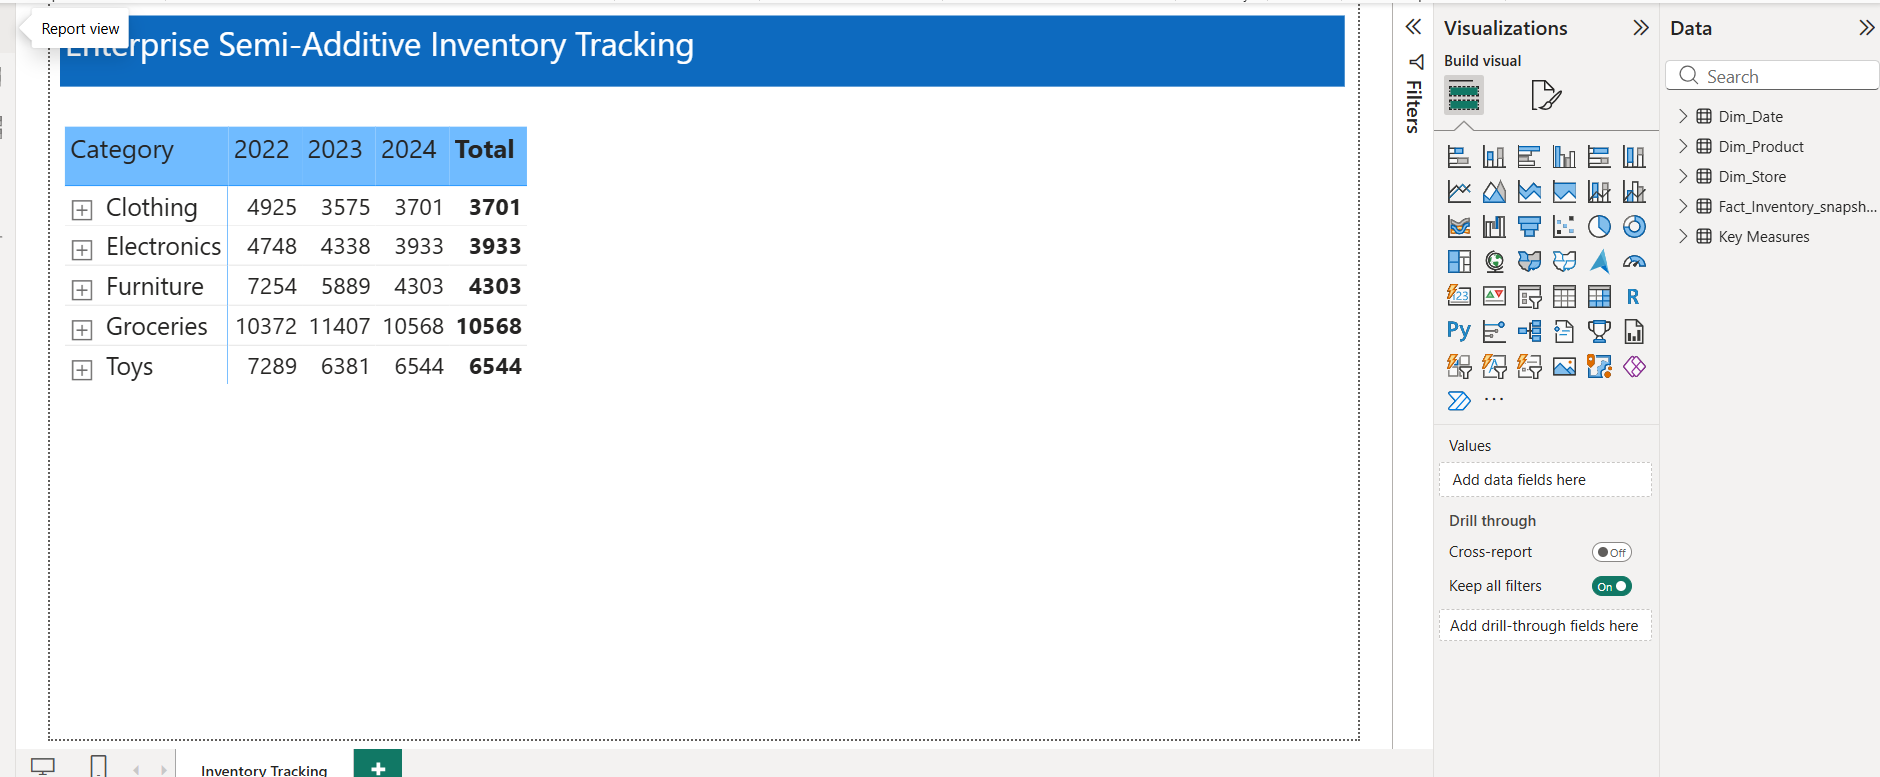

Layout of this report page (visuals, bound fields, positions):
{"tool":"powerbi","page":{"name":"Inventory Tracking","canvas":[1280,720],"ordinal":0},"visuals":[{"type":"pivotTable","fields":{"Rows":["Dim_Product.Category","Dim_Product.Product ID"],"Values":["Key Measures.Closing Stock Quantity"],"Columns":["Dim_Date.Year","Dim_Date.Month Name"]},"box":[9.6,116.6,1237.7,564],"z":0},{"type":"textbox","box":[9.6,12.3,1257,70],"z":1000}]}

Visuals, with their boxes on the page's 1280x720 design canvas (x1, y1, x2, y2). These are canvas units, not pixel positions in the 1880x777 screenshot, which may show the page scaled, cropped or inside an application window:
pivotTable - Dim_Product.Category x Dim_Product.Product ID: [left=10, top=117, right=1247, bottom=681]
textbox: [left=10, top=12, right=1267, bottom=82]
